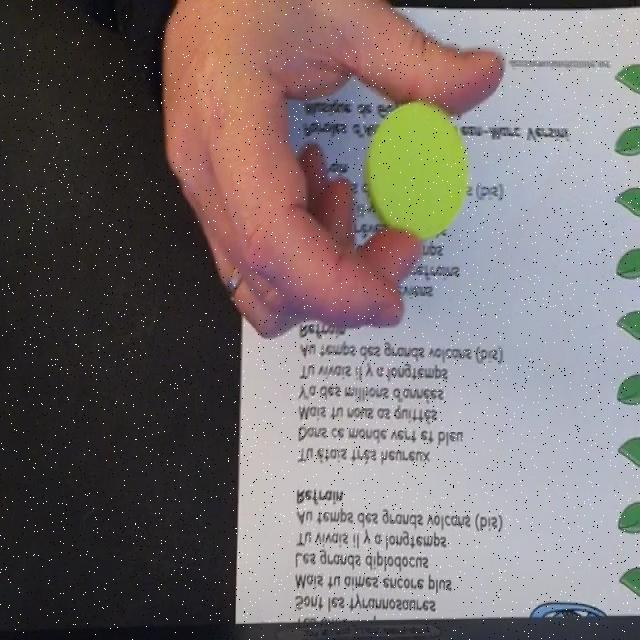round: (366, 98, 470, 240)
